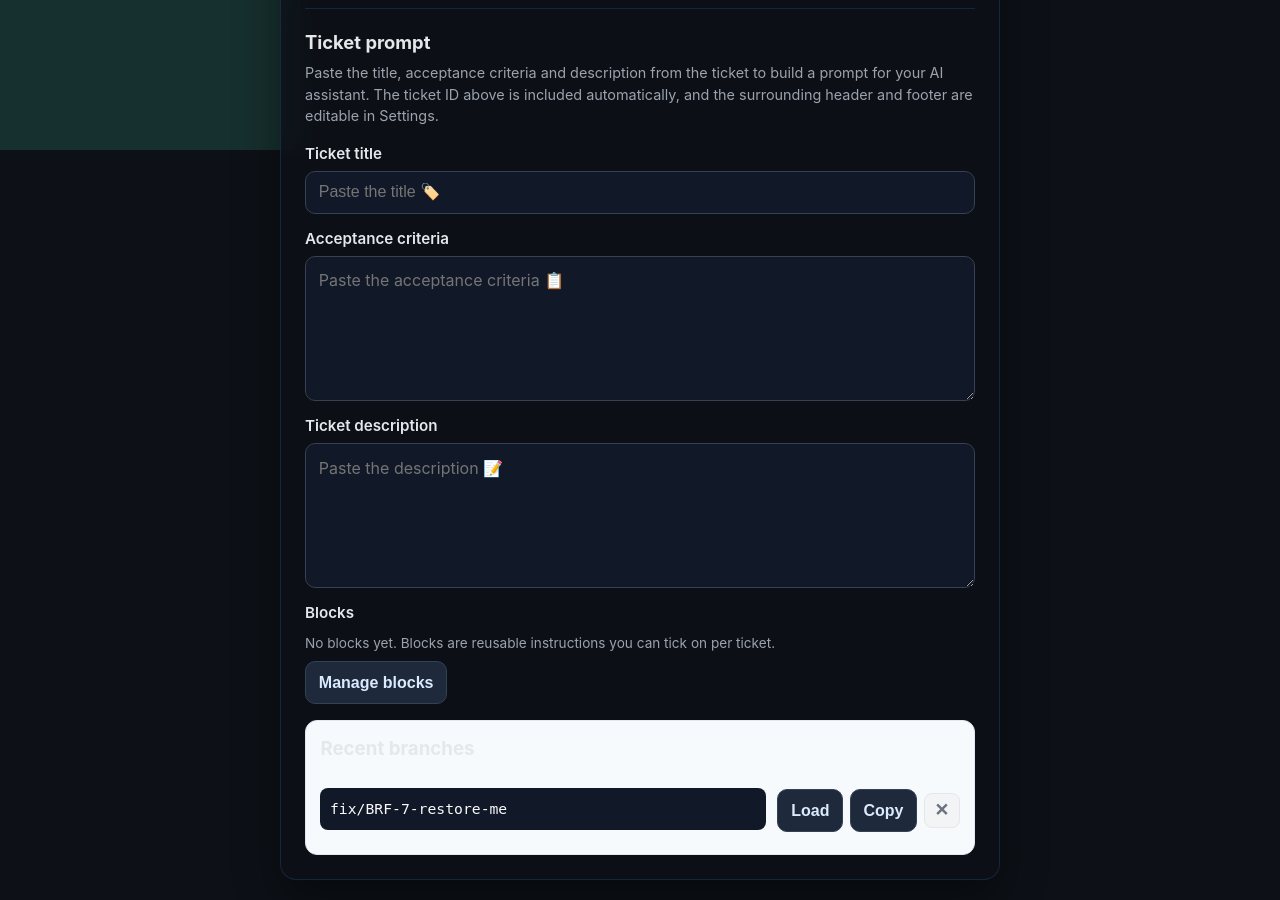
Scenario: App › loading recent branches › loads legacy entries that were saved without a form snapshot
(page scrolled)
Click the button with aria-label "Load fix/BRF-7-restore-me" at (810, 811), box [778,789,843,832]
(page scrolled)
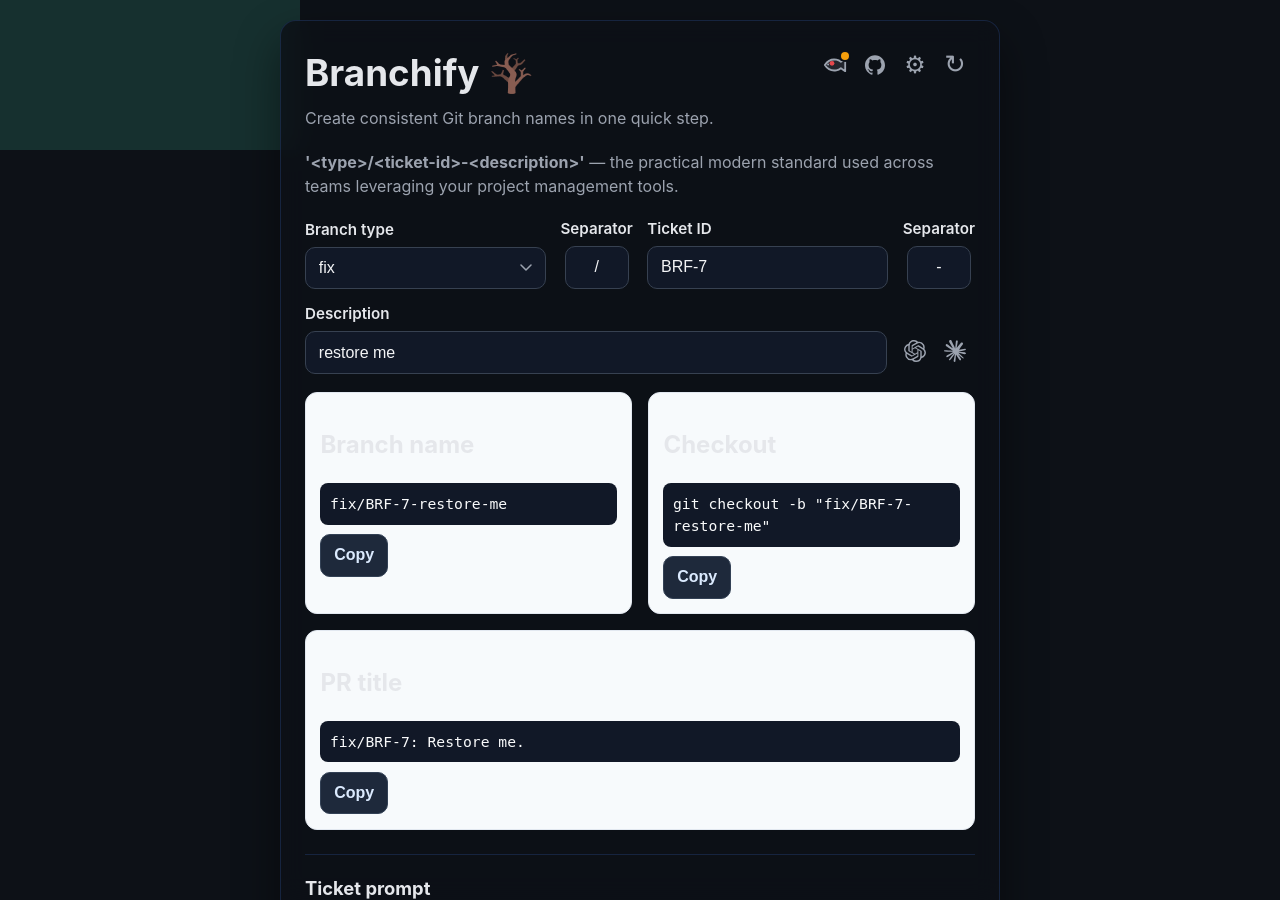
Check: the dropdown labelled "Branch type" shows "fix", box [305,247,546,289]
Check: the field labelled "Ticket ID" holds "BRF-7", box [647,246,888,289]
Check: the field labelled "Description" holds "restore me", box [305,331,887,374]
